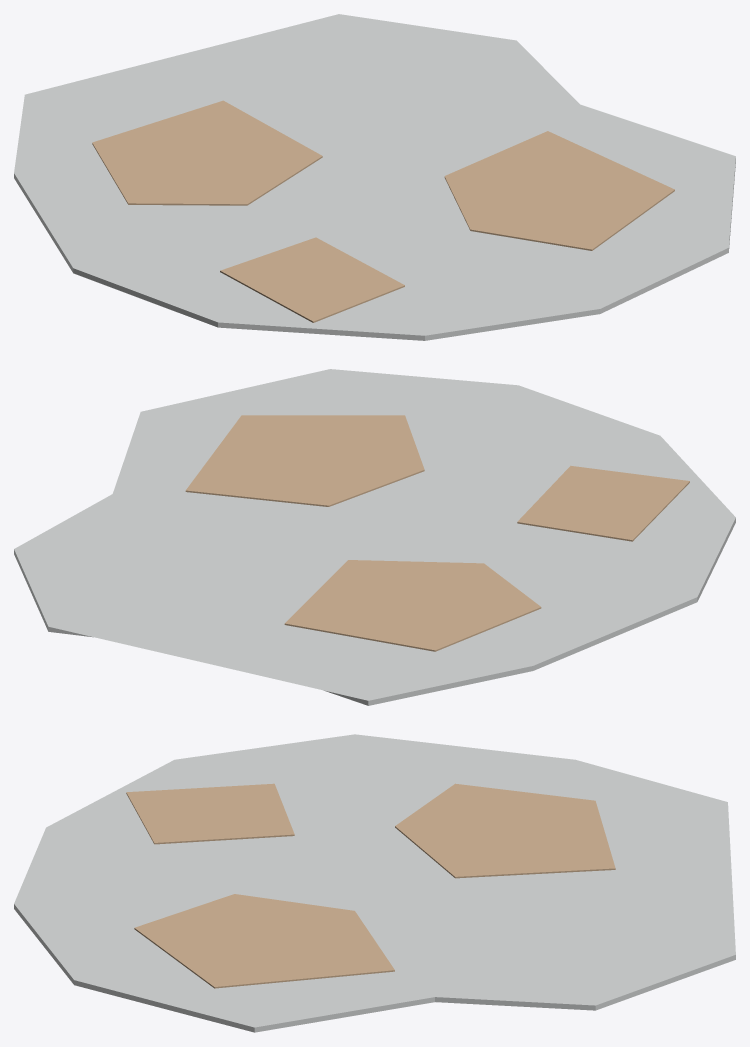
Rendered from rugCowhide.glb.
3 views of the same model, one above another, from view 1: azimuth 30°, elevation 25°; view 2: azimuth 150°, elevation 25°; view 3: azimuth 270°, elevation 25° (orthographic).
Parts seen in each view (by area): view 1: rugCowhide; view 2: rugCowhide; view 3: rugCowhide.
Part boxes in pixels (left/top/right/bottom): rugCowhide: left=14, top=14, right=735, bottom=340; rugCowhide: left=14, top=369, right=735, bottom=705; rugCowhide: left=14, top=734, right=735, bottom=1032.
Size of the model in its own units: 0.865 by 0.009 by 0.9.
